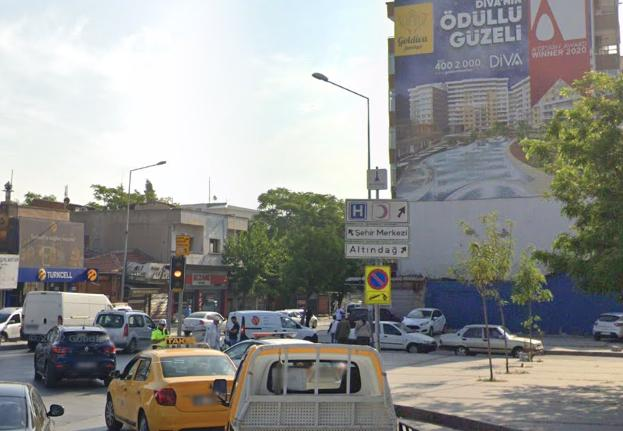nopark: (366, 267, 390, 290)
yellowlight: (170, 256, 185, 289)
